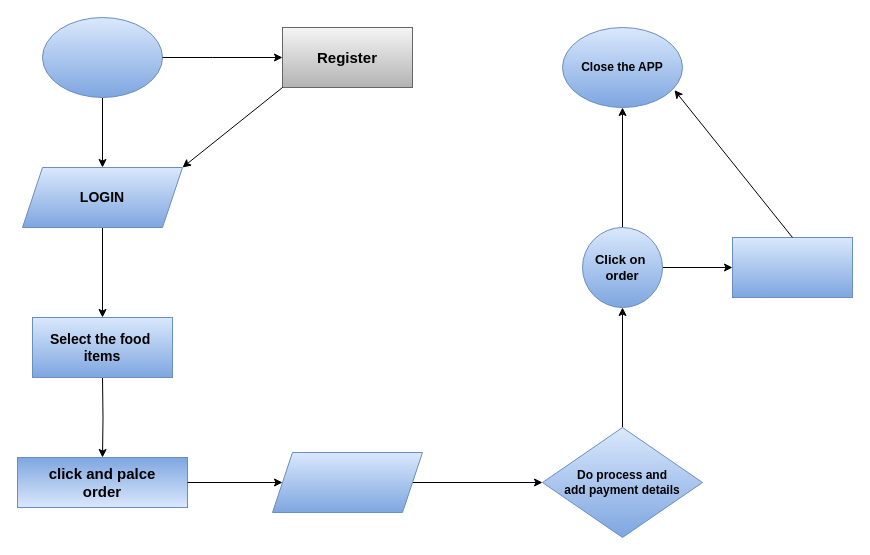
The diagram is 870 pixels wide and 555 high, and some of its shapes have lost their labels. Each missing label, with the box of its shape:
Add Address: (272, 452, 422, 512)
Start / Install: (42, 16, 162, 98)
Track the order: (732, 236, 852, 298)
